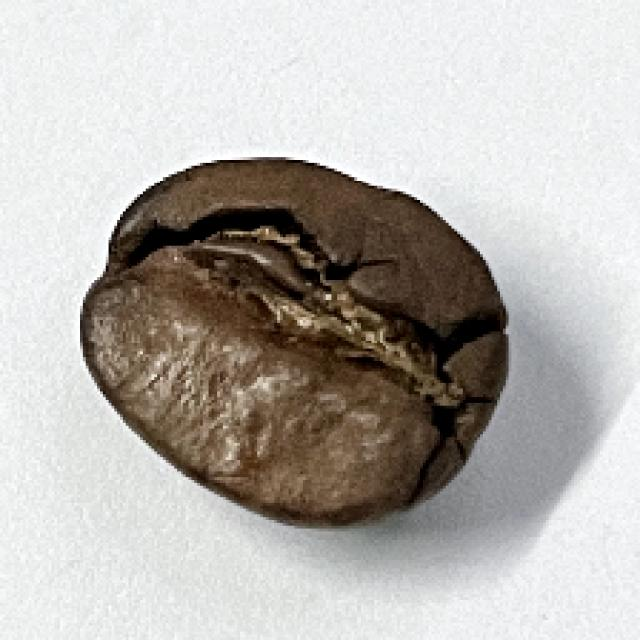bean: (76, 154, 513, 527)
